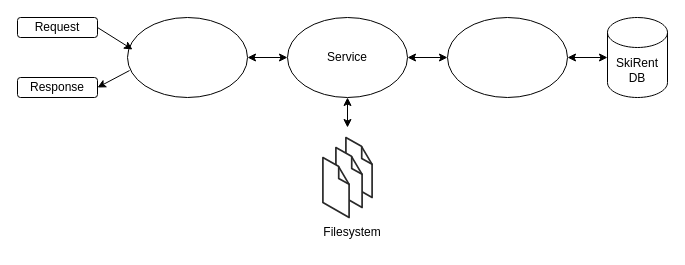
Some shapes in this 685 by 265 pixel diagram are drawn without their labels. The shapes that lost their labels are listed below. From the top down, each one's centre as x and y in pixels, then its label:
the point at 187,57: Controller
the point at 507,57: Repository
